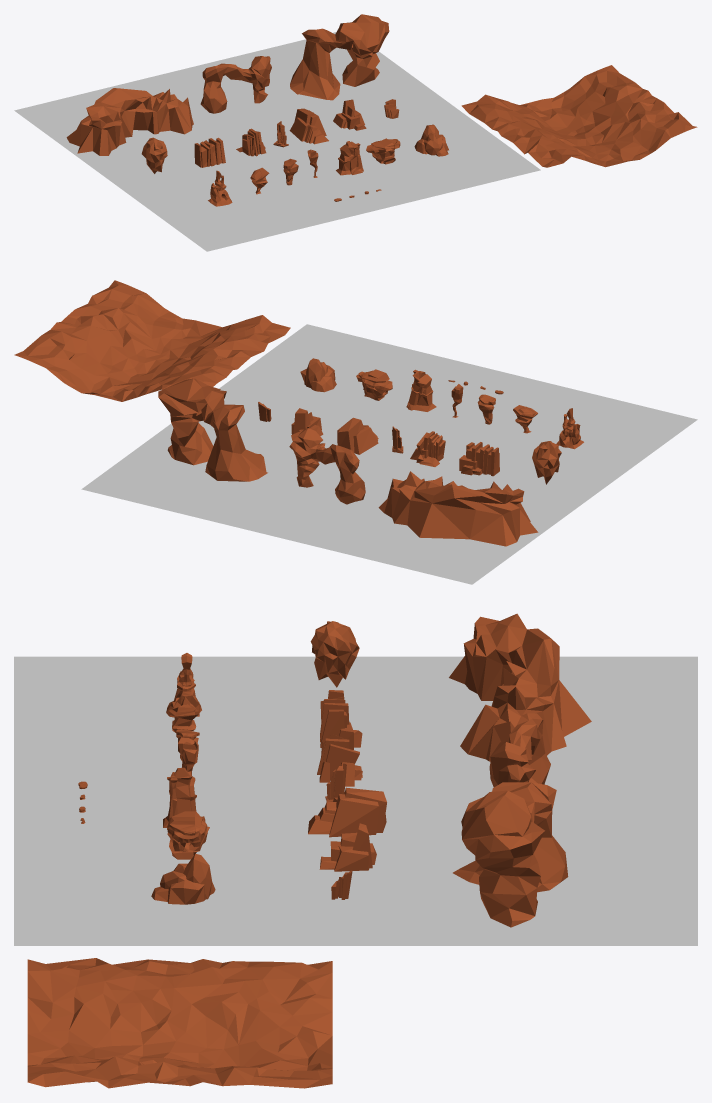
Rendered from low-poly-landscape-set.fbx.
The picture shows the model from 3 angles, top to bottom: view 1: azimuth 30°, elevation 25°; view 2: azimuth 150°, elevation 25°; view 3: azimuth 270°, elevation 25°; orthographic projection. The views are drawn at different scales.
Visible parts, largest first — view 1: Plane_white_0, Terrain_01.001_Brown_0, Rock T01 08_Brown_0, Rock T05 02_Brown_0, Rock T05 01_Brown_0, Rock T03 01_Brown_0, Rock T02 02_Brown_0, Rock T01 07_Brown_0, Rock T01 05_Brown_0, Rock T06 01_Brown_0, Rock T03 02_Brown_0, Rock T01 06_Brown_0 (+2 smaller); view 2: Plane_white_0, Terrain_01.001_Brown_0, Rock T01 08_Brown_0, Rock T05 02_Brown_0, Rock T05 01_Brown_0, Rock T02 02_Brown_0, Rock T03 01_Brown_0, Rock T06 01_Brown_0, Rock T02 03_Brown_0, Rock T01 07_Brown_0, Rock T01 05_Brown_0, Rock T01 06_Brown_0 (+2 smaller); view 3: Plane_white_0, Terrain_01.001_Brown_0, Rock T01 08_Brown_0, Rock T05 02_Brown_0, Rock T05 01_Brown_0, Rock T03 01_Brown_0, Rock T06 01_Brown_0, Rock T01 07_Brown_0, Rock T03 02_Brown_0, Rock T01 06_Brown_0, Rock T02 03_Brown_0, Rock T02 02_Brown_0 (+2 smaller).
Part boxes in pixels (bbox=[...]): Plane_white_0: bbox=[14, 32, 540, 251]; Terrain_01.001_Brown_0: bbox=[461, 65, 697, 167]; Rock T01 08_Brown_0: bbox=[66, 88, 193, 155]; Rock T05 02_Brown_0: bbox=[290, 14, 389, 100]; Rock T05 01_Brown_0: bbox=[200, 56, 271, 113]; Rock T03 01_Brown_0: bbox=[289, 108, 328, 144]; Rock T02 02_Brown_0: bbox=[194, 137, 225, 167]; Rock T01 07_Brown_0: bbox=[414, 124, 448, 156]; Rock T01 05_Brown_0: bbox=[336, 141, 363, 175]; Rock T06 01_Brown_0: bbox=[141, 137, 167, 173]; Rock T03 02_Brown_0: bbox=[333, 99, 366, 130]; Rock T01 06_Brown_0: bbox=[366, 138, 400, 164]; Plane_white_0: bbox=[81, 324, 697, 584]; Terrain_01.001_Brown_0: bbox=[14, 280, 290, 401]; Rock T01 08_Brown_0: bbox=[378, 471, 538, 546]; Rock T05 02_Brown_0: bbox=[158, 378, 267, 481]; Rock T05 01_Brown_0: bbox=[289, 428, 365, 504]; Rock T02 02_Brown_0: bbox=[459, 442, 499, 476]; Rock T03 01_Brown_0: bbox=[337, 417, 378, 454]; Rock T06 01_Brown_0: bbox=[532, 441, 561, 484]; Rock T02 03_Brown_0: bbox=[410, 431, 445, 466]; Rock T01 07_Brown_0: bbox=[300, 358, 336, 392]; Rock T01 05_Brown_0: bbox=[406, 369, 436, 411]; Rock T01 06_Brown_0: bbox=[356, 369, 392, 400]; Plane_white_0: bbox=[14, 656, 697, 945]; Terrain_01.001_Brown_0: bbox=[27, 958, 332, 1088]; Rock T01 08_Brown_0: bbox=[449, 613, 591, 761]; Rock T05 02_Brown_0: bbox=[453, 782, 568, 927]; Rock T05 01_Brown_0: bbox=[489, 713, 550, 787]; Rock T03 01_Brown_0: bbox=[308, 787, 386, 837]; Rock T06 01_Brown_0: bbox=[310, 621, 359, 687]; Rock T01 07_Brown_0: bbox=[151, 853, 215, 904]; Rock T03 02_Brown_0: bbox=[319, 823, 376, 871]; Rock T01 06_Brown_0: bbox=[167, 811, 209, 859]; Rock T02 03_Brown_0: bbox=[317, 733, 362, 786]; Rock T02 02_Brown_0: bbox=[320, 690, 362, 749].
Bounding box in the file's own units: 33033 × 5778 × 22316.
